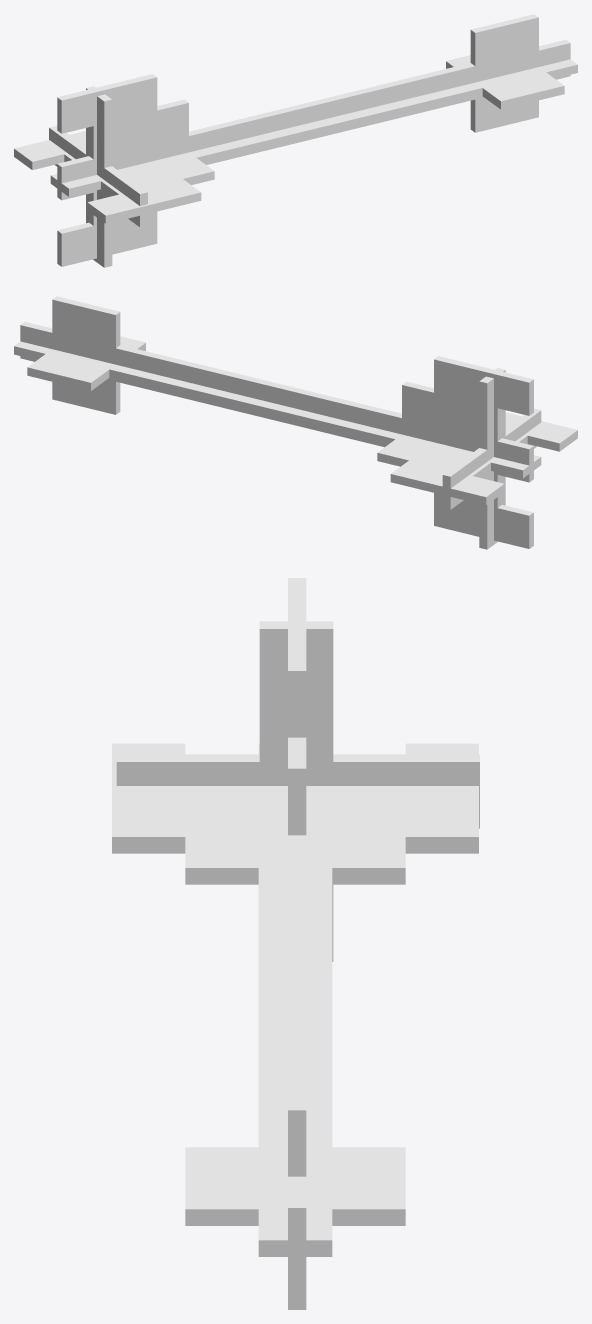
Rendered from Arrow.fbx.
3 renders of one model, top to bottom at view 1: azimuth 30°, elevation 25°; view 2: azimuth 150°, elevation 25°; view 3: azimuth 270°, elevation 25°, orthographic. The views are drawn at different scales.
Visible parts, largest first — view 1: arrow_1; view 2: arrow_1; view 3: arrow_1.
Boxes of the visible parts, x1,y1,x2,y2 form: arrow_1: (14,14,577,267); arrow_1: (14,296,577,549); arrow_1: (112,578,479,1309).
Size of the model in its own units: 8 by 2.56 by 2.51.
